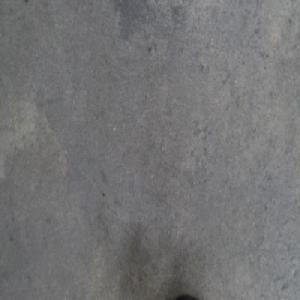AdjustableWrench: (173, 291, 202, 299)
